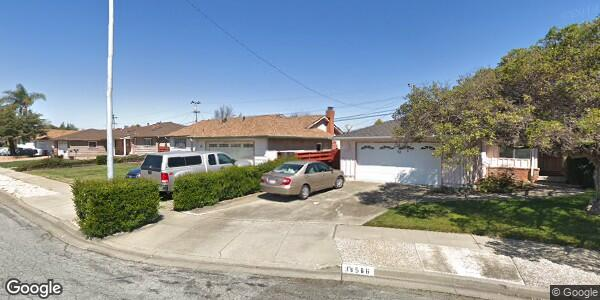Steel_Pole: (104, 1, 116, 177)
